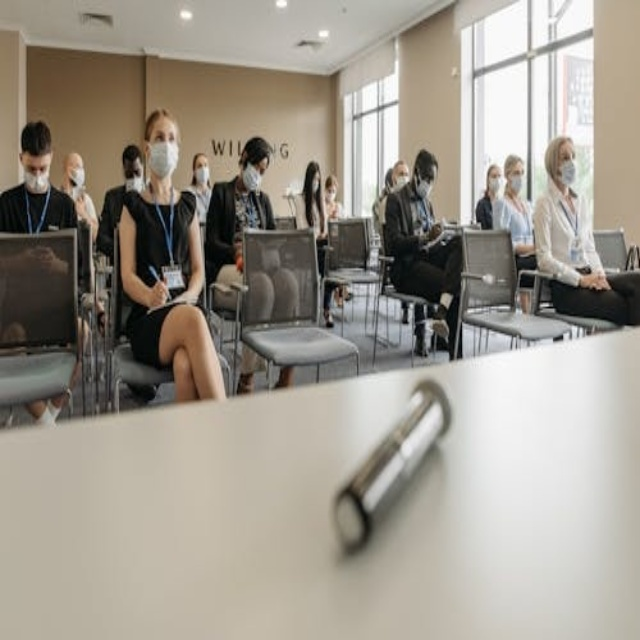Mascara: (147, 140, 179, 179), (22, 164, 50, 193), (242, 164, 263, 192), (557, 160, 577, 186), (417, 176, 434, 200), (125, 175, 144, 194), (68, 167, 85, 188), (488, 177, 505, 198), (507, 174, 523, 193), (195, 166, 210, 185), (396, 176, 409, 190), (327, 189, 336, 202), (312, 180, 320, 193)
Sin_gafas: (150, 126, 179, 144), (22, 158, 50, 175), (558, 153, 576, 163)
Sin_guantes: (7, 244, 69, 278), (142, 278, 170, 312), (577, 270, 613, 292)
